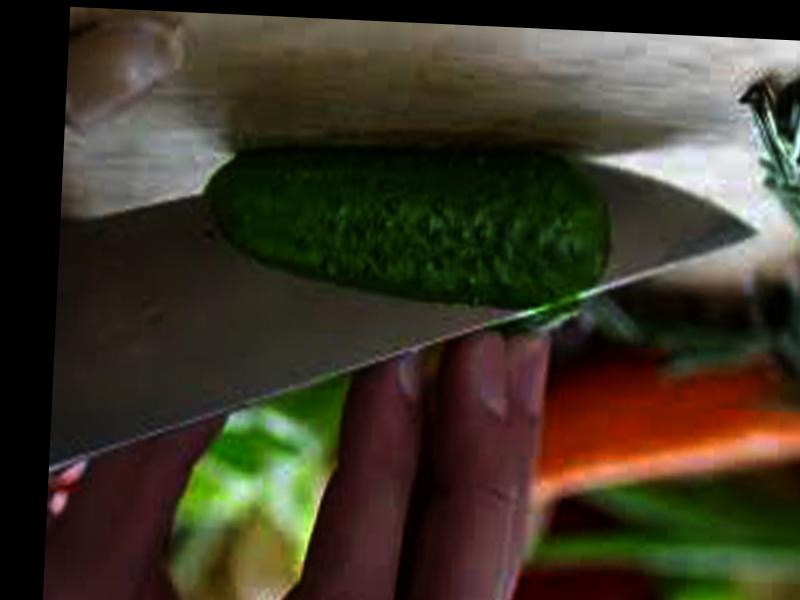Cucumber: (204, 130, 615, 313)
